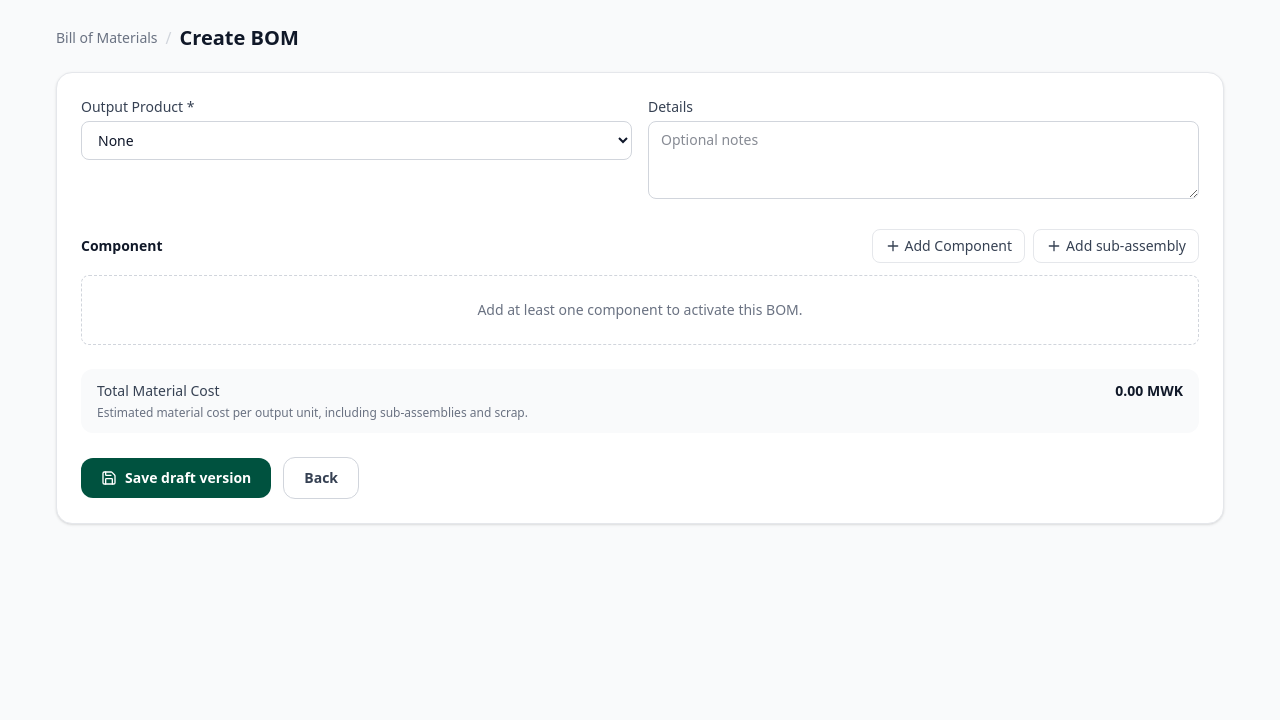
Test: multi-level BOM editor › localizes cycle errors returned by the database save command
The image size is (1280, 720).
Select "Finished pack — finished_good" in the dropdown with test id "output-product-select". click: x=356, y=140
box: [81,121,632,160]
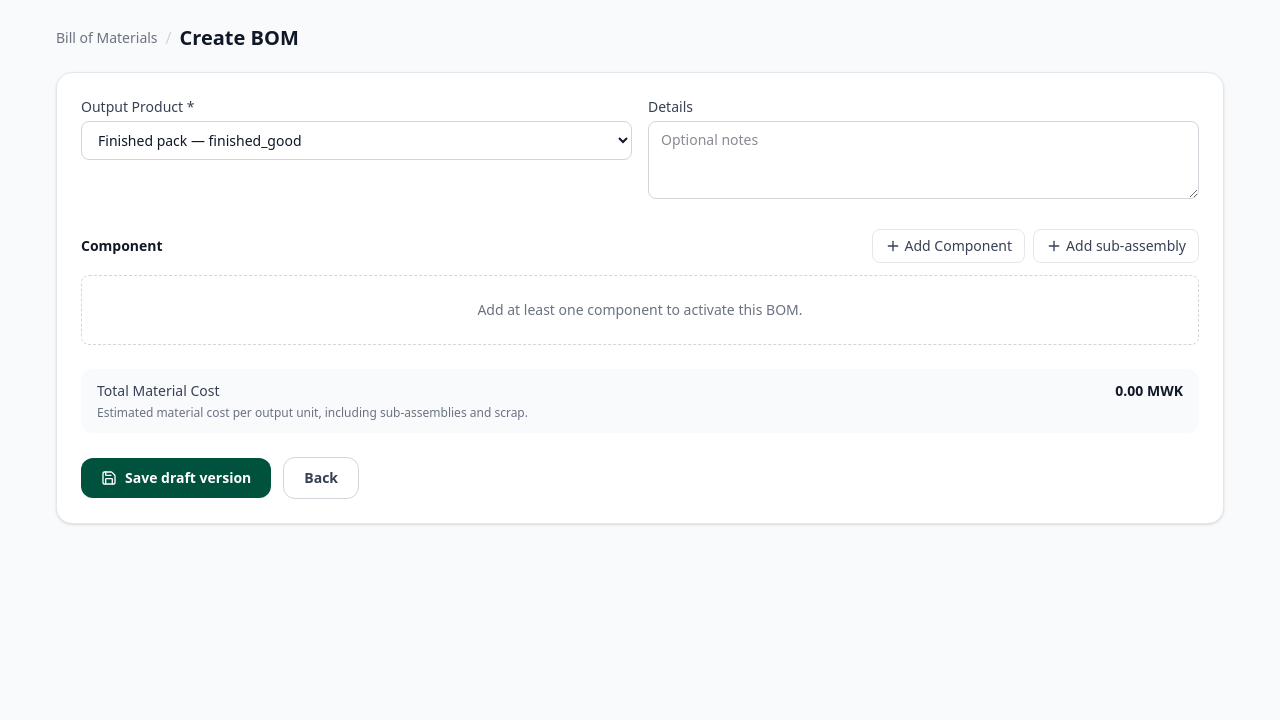
Click the button with test id "add-subassembly-button". click: x=1116, y=246
box: [1033,229,1199,263]
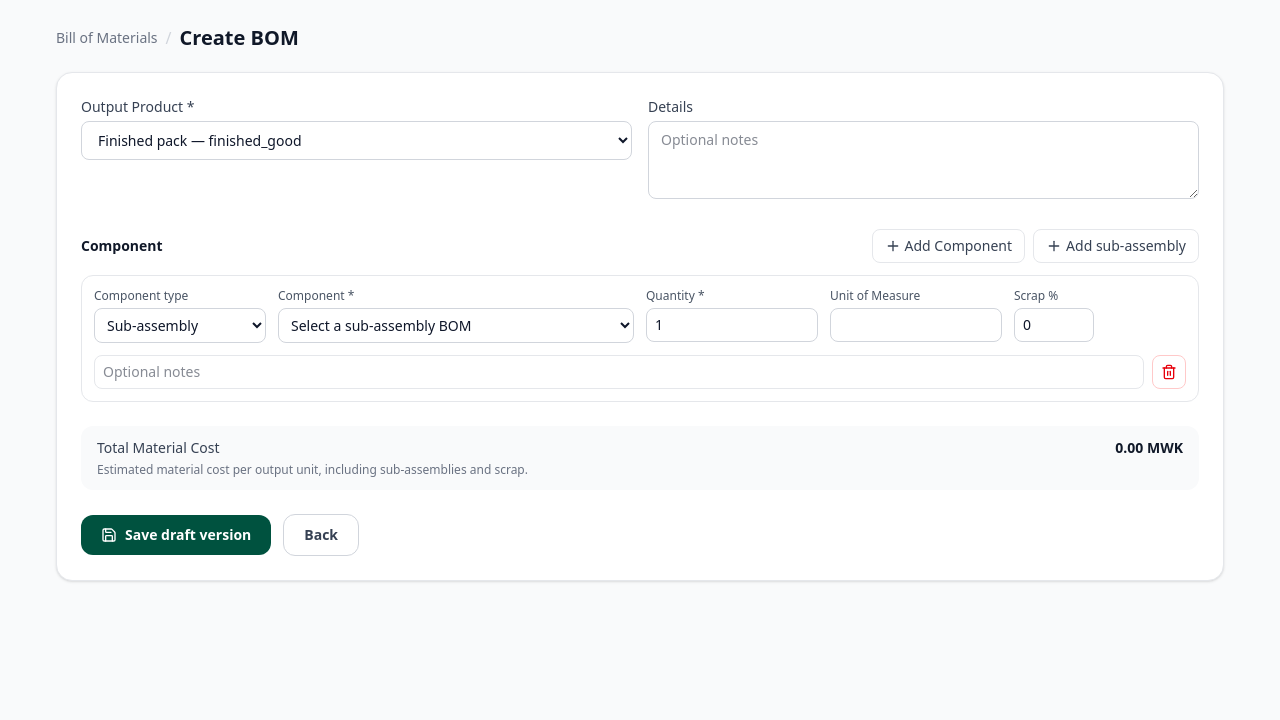
Select "Inner assembly — v1" in the dropdown with test id "line-0-component". click: x=456, y=326
box: [278,308,634,343]
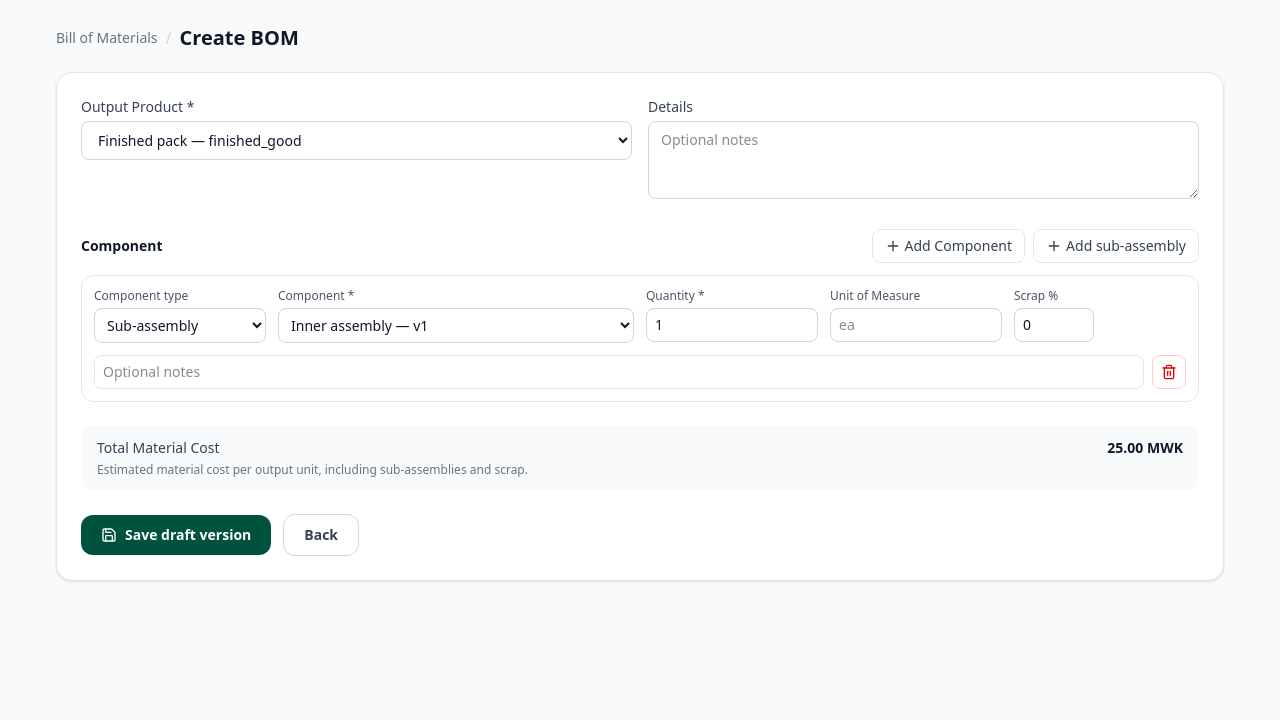
Click the button "Save draft version". click: x=176, y=535
box: [81,515,271,555]
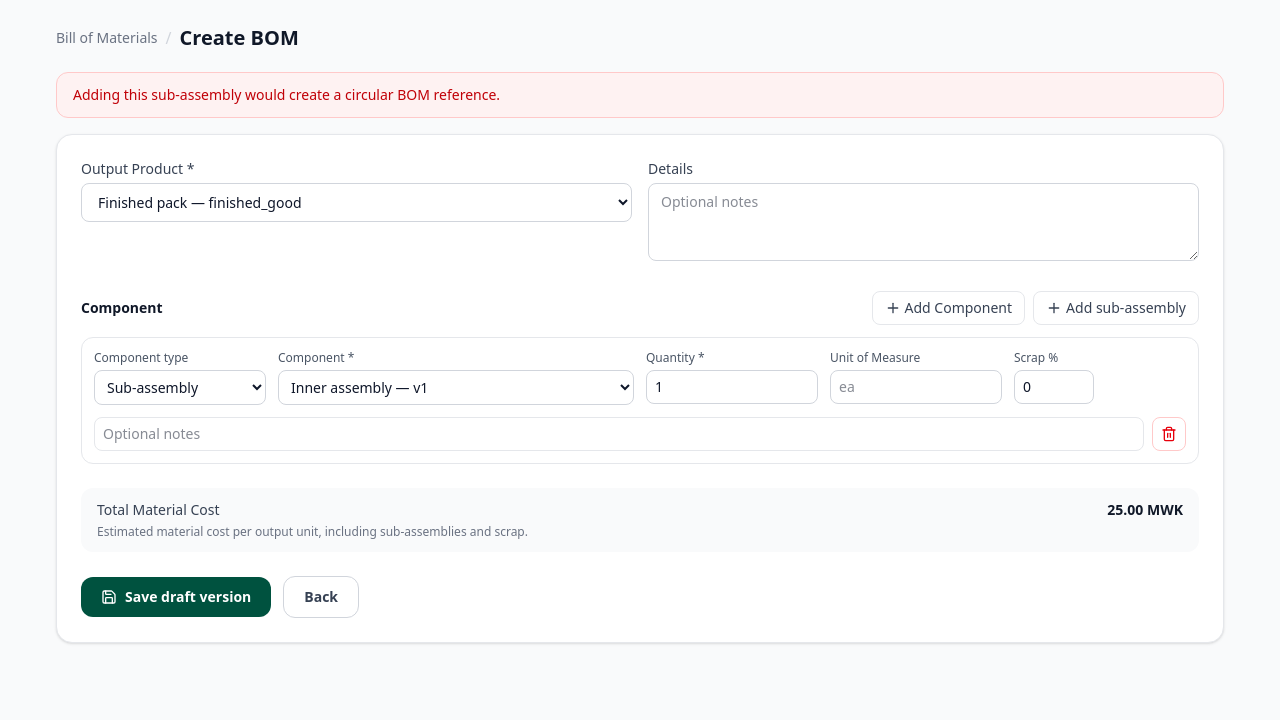
Expected: the message reads "Adding this sub-assembly would create a circular BOM reference.", [73,85,500,104]
